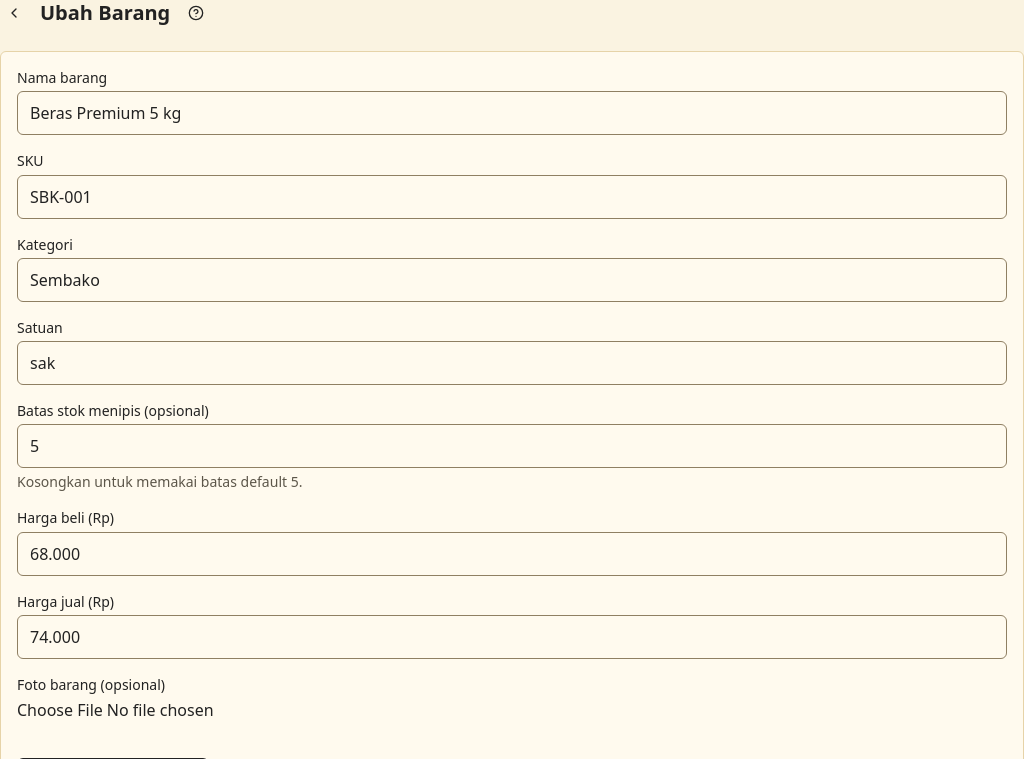
EditProductPage › menyimpan perubahan harga: pesan tersimpan, riwayat harga bertambah, stok tetap
This screenshot has width=1024, height=759.
Replace the text in the field labelled "Harga jual (Rp)" with "75.000" at point(512, 637), box [17,615,1007,659]
(page scrolled)
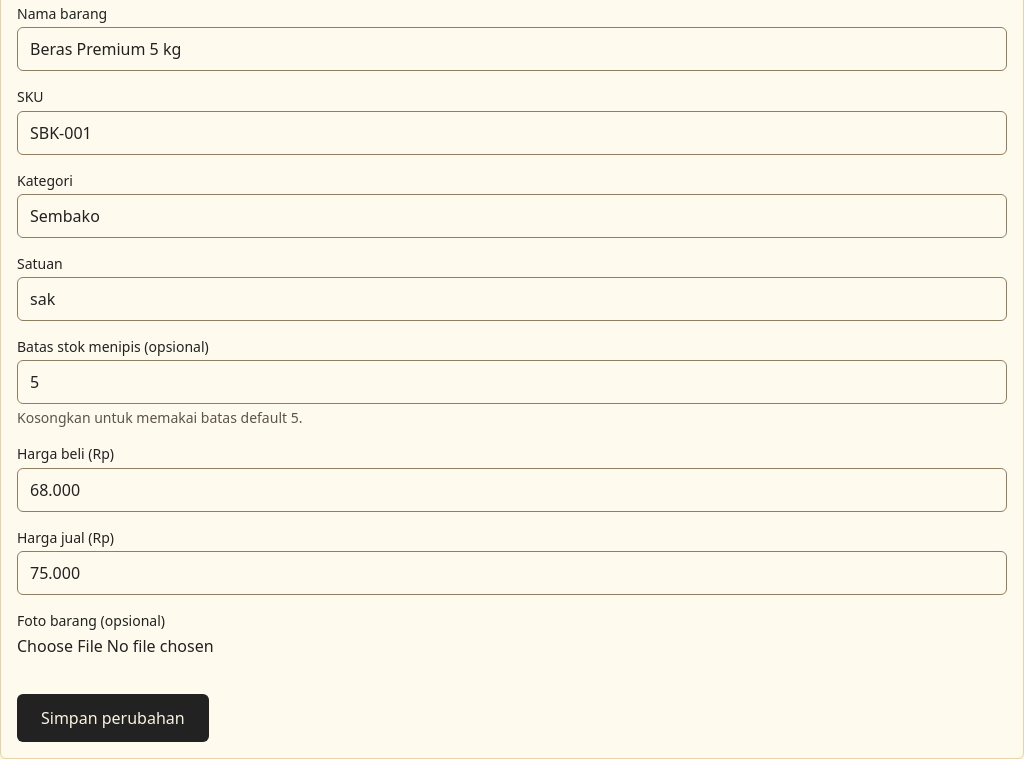
Click the button "Simpan perubahan" at point(113, 718), box [17,694,209,742]
(page scrolled)
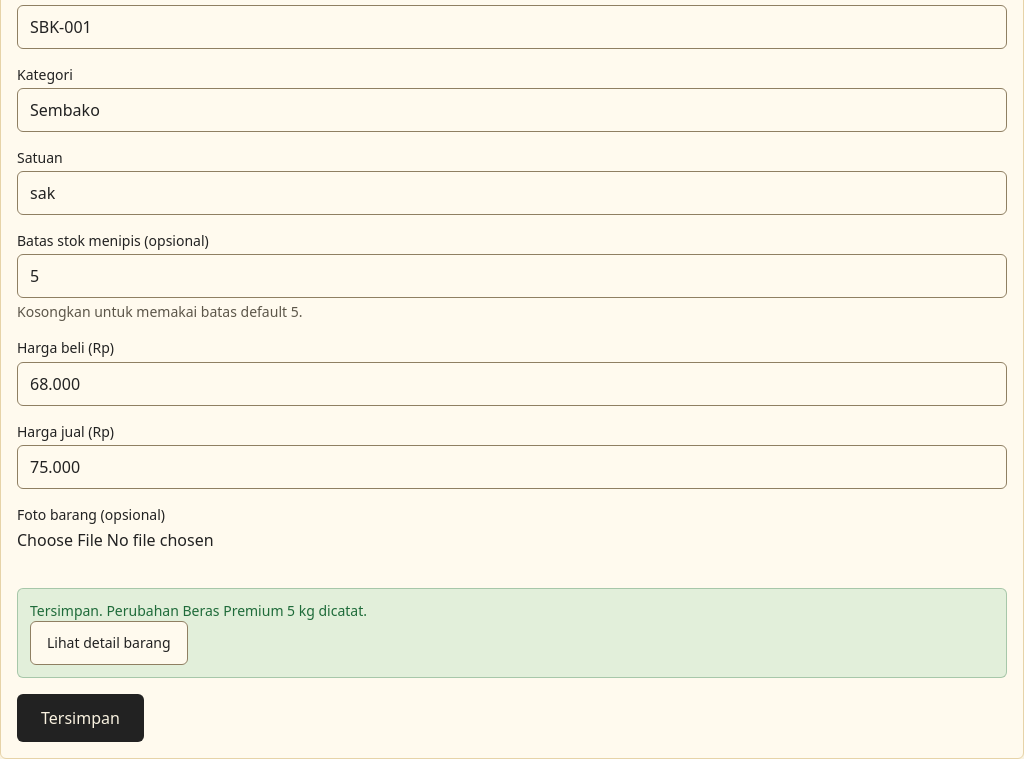
Expected: the text "Tersimpan. Perubahan Beras Premium 5 kg dicatat." is shown, [30,601,367,620]
Expected: the link "Lihat detail barang" is shown, [30,621,188,665]
Expected: the button "Tersimpan" is shown, [17,694,144,742]
